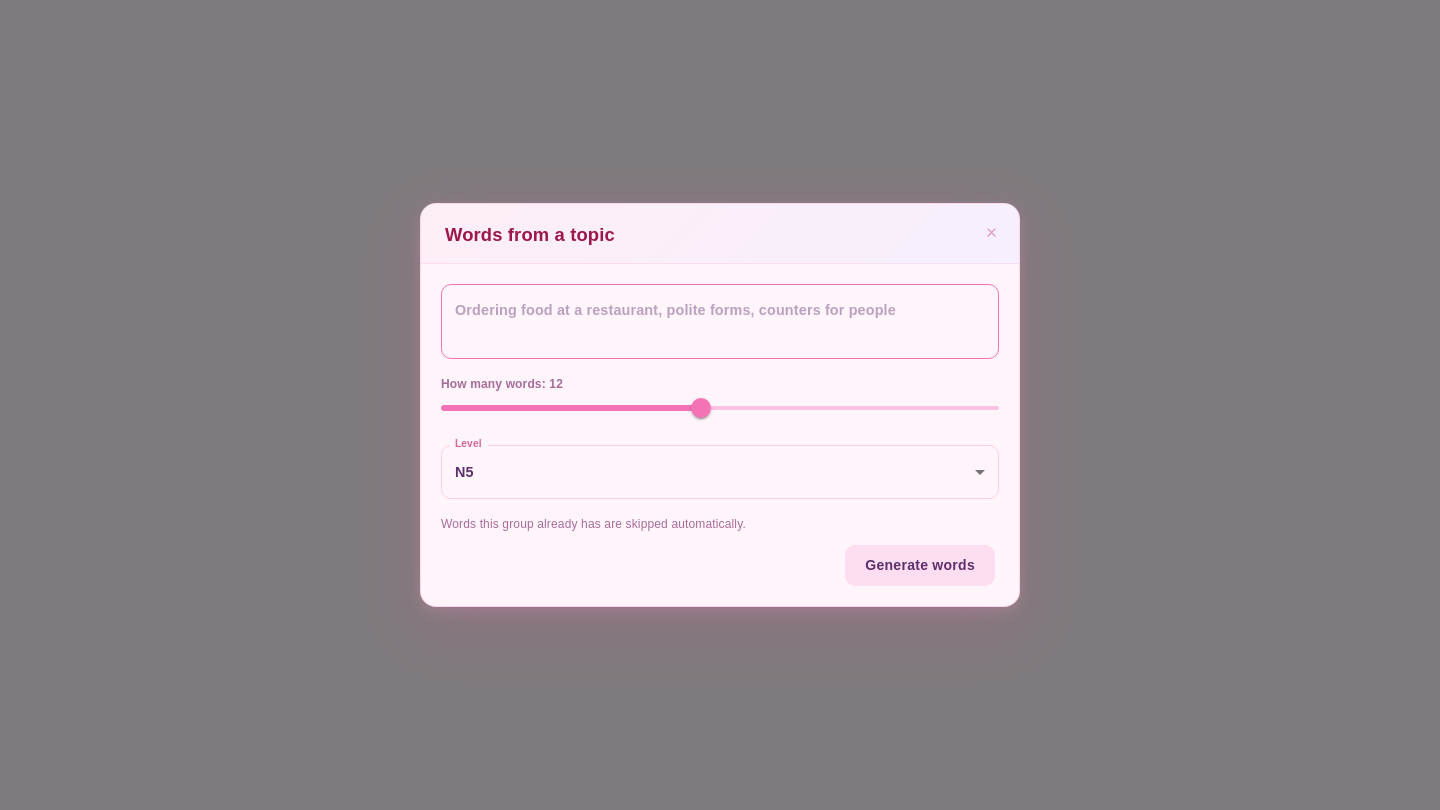
Test: AiWordsDialog › shows the busy message on a 429
Replace the text in the text box with placeholder "Ordering food" with "Ordering at a restaurant" at {"x": 720, "y": 321}, box [455,300,985,342]
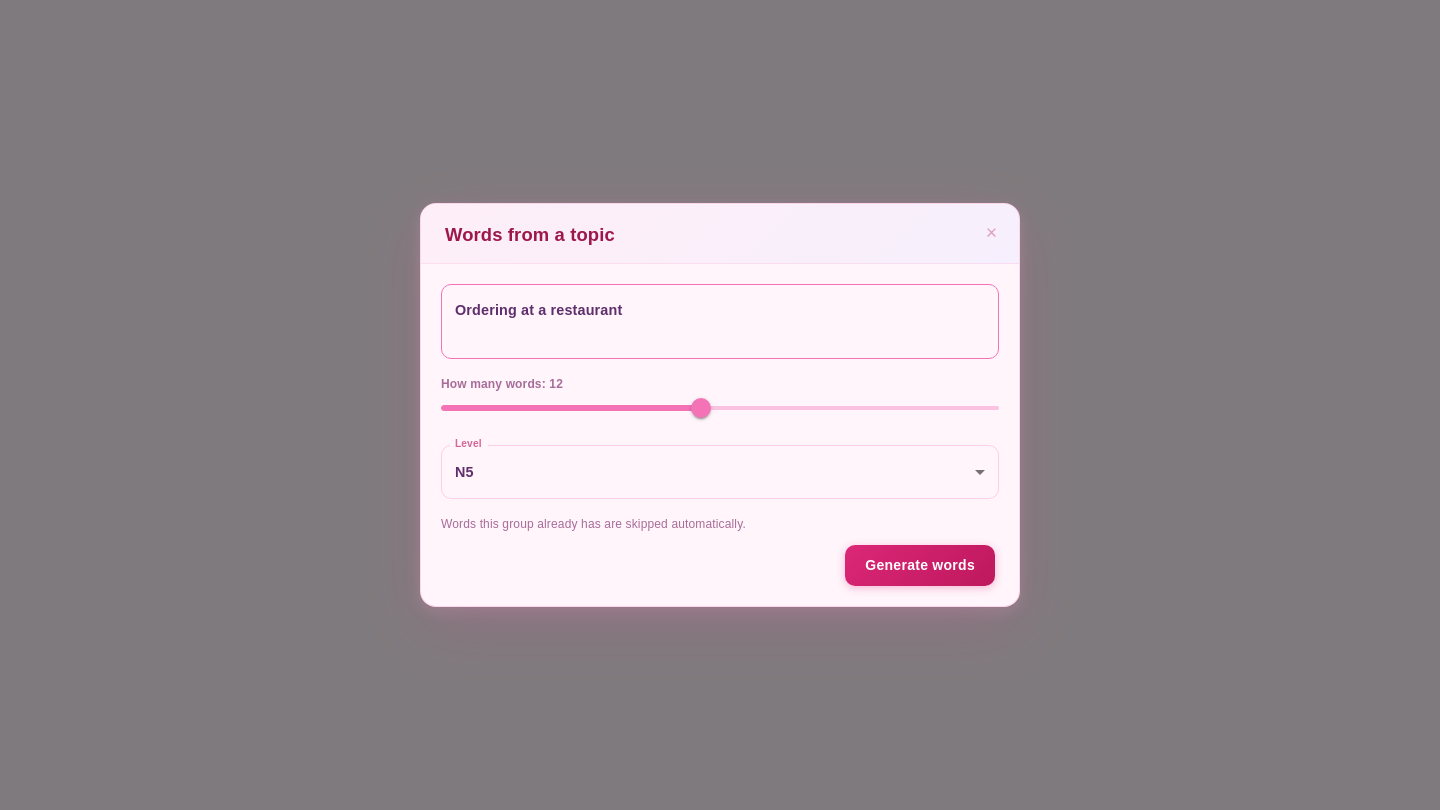
Click the button "Generate words" at {"x": 920, "y": 565}, box [845,545,995,586]
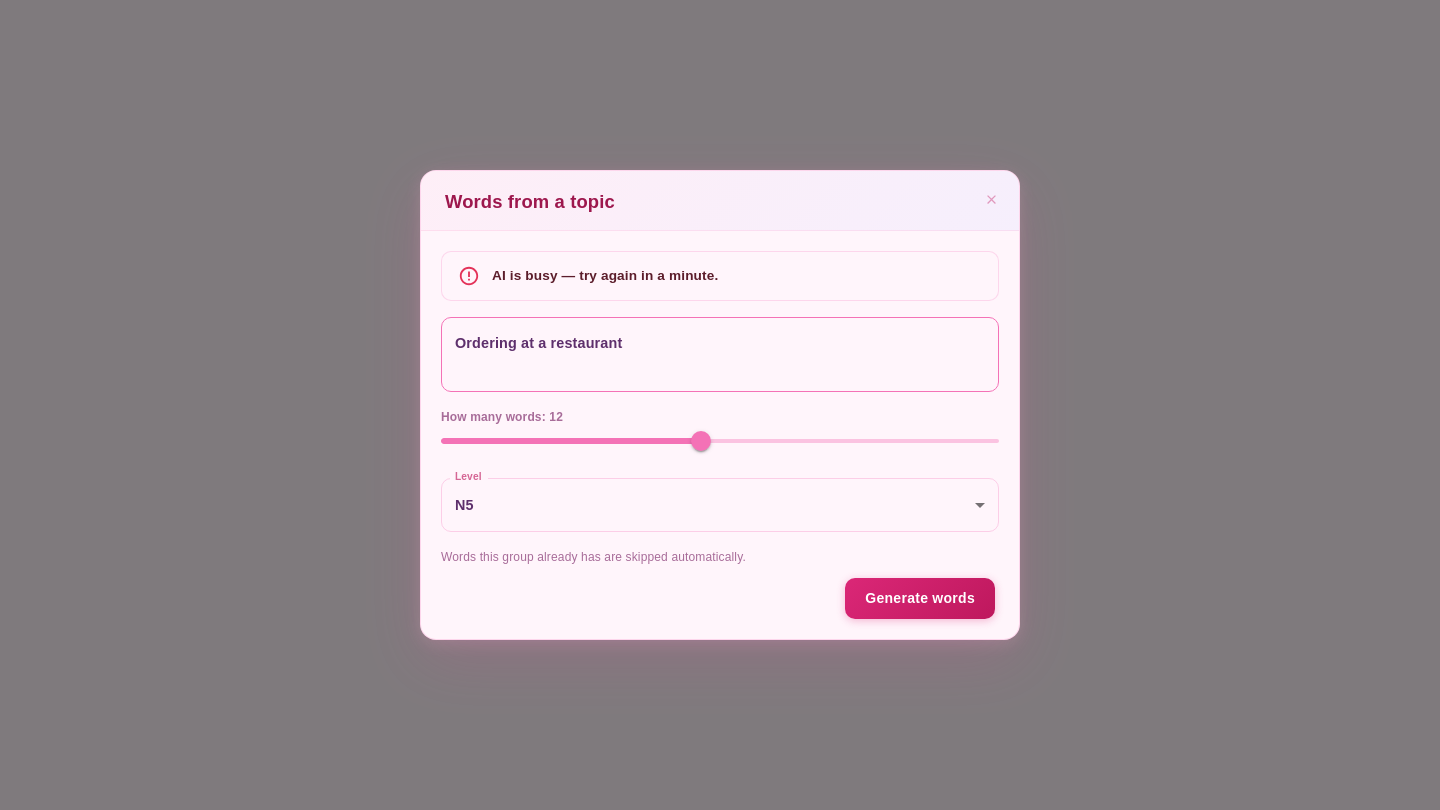
Expected: the text "AI is busy — try again in a minute." is shown, [492,268,718,282]
